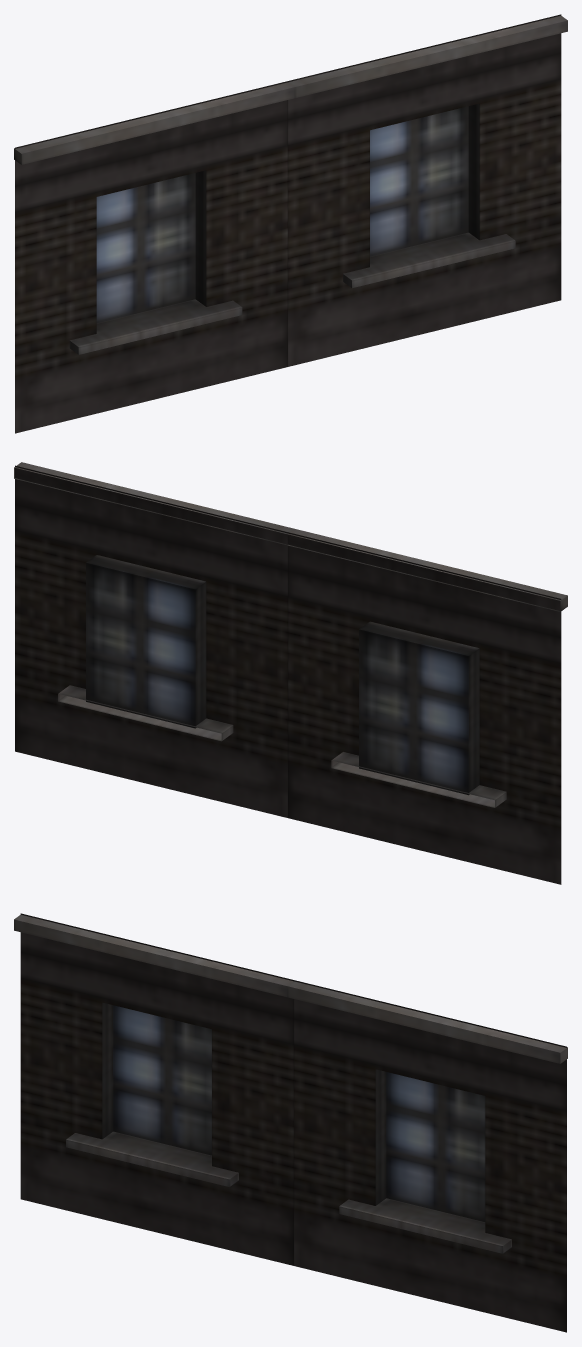
The model's file is B10_WindowA2x.FBX.
The picture shows the model from 3 angles, top to bottom: view 1: azimuth 30°, elevation 25°; view 2: azimuth 150°, elevation 25°; view 3: azimuth 330°, elevation 25°; orthographic projection.
Visible parts, largest first — view 1: B10_WindowA2x; view 2: B10_WindowA2x; view 3: B10_WindowA2x.
Part boxes in pixels (x1,y1,x2,y2): B10_WindowA2x: (14,14,567,433); B10_WindowA2x: (14,462,567,884); B10_WindowA2x: (14,913,567,1332).
Bounding box in the file's own units: 8 × 4 × 0.5323.
